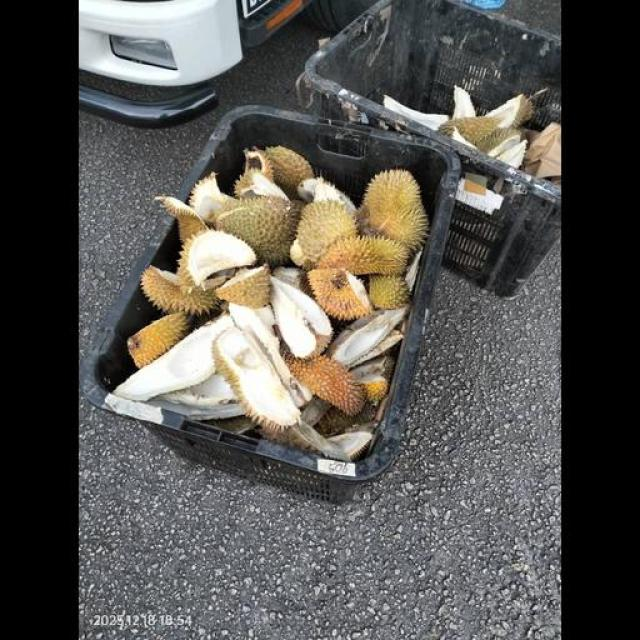organic: (123, 89, 463, 585)
